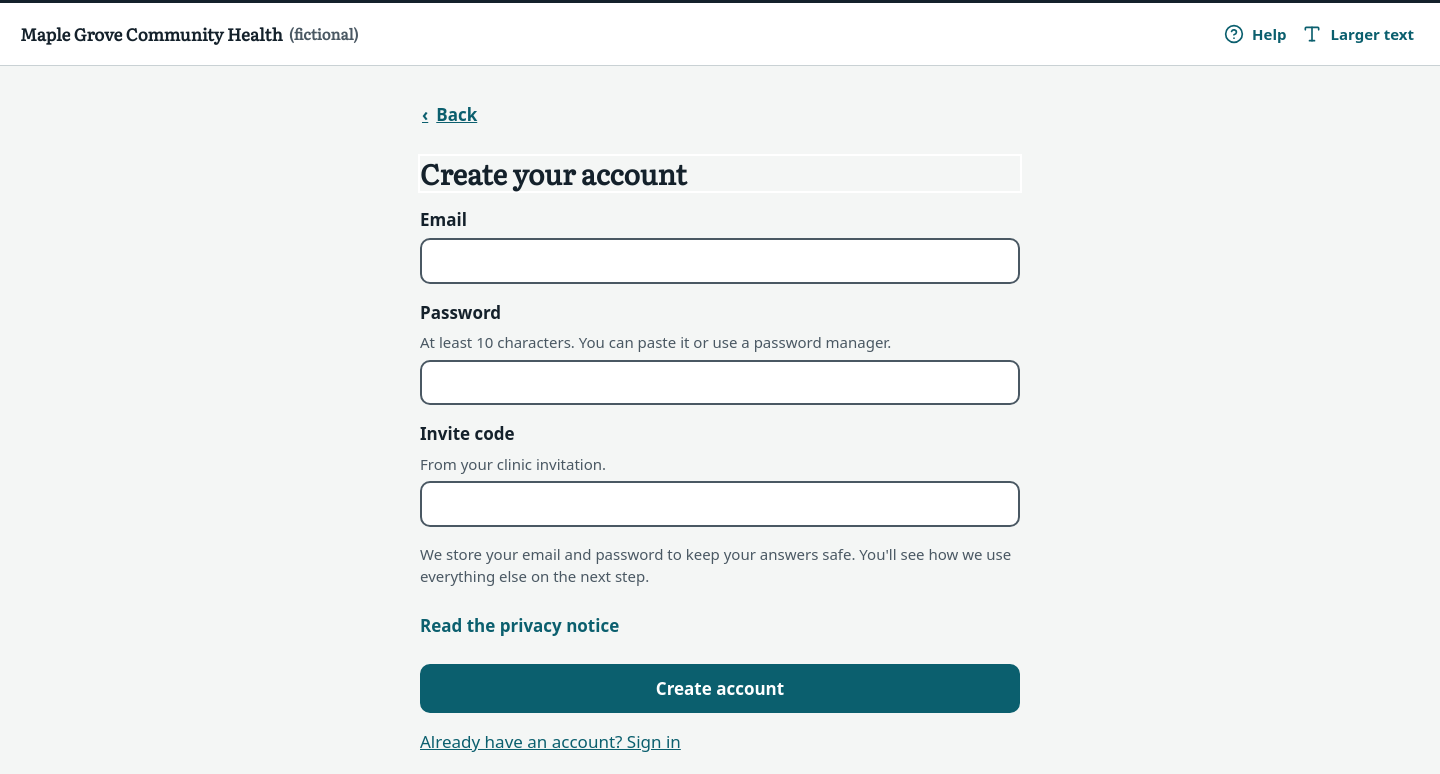
Test case: sign-up says what's stored before consent and links the notice
expect the text "We store your email and password" is shown: met, box [420, 544, 1011, 586]
Click the heading "Read the privacy notice" at coordinates (520, 625), box [420, 614, 619, 637]
(page scrolled)
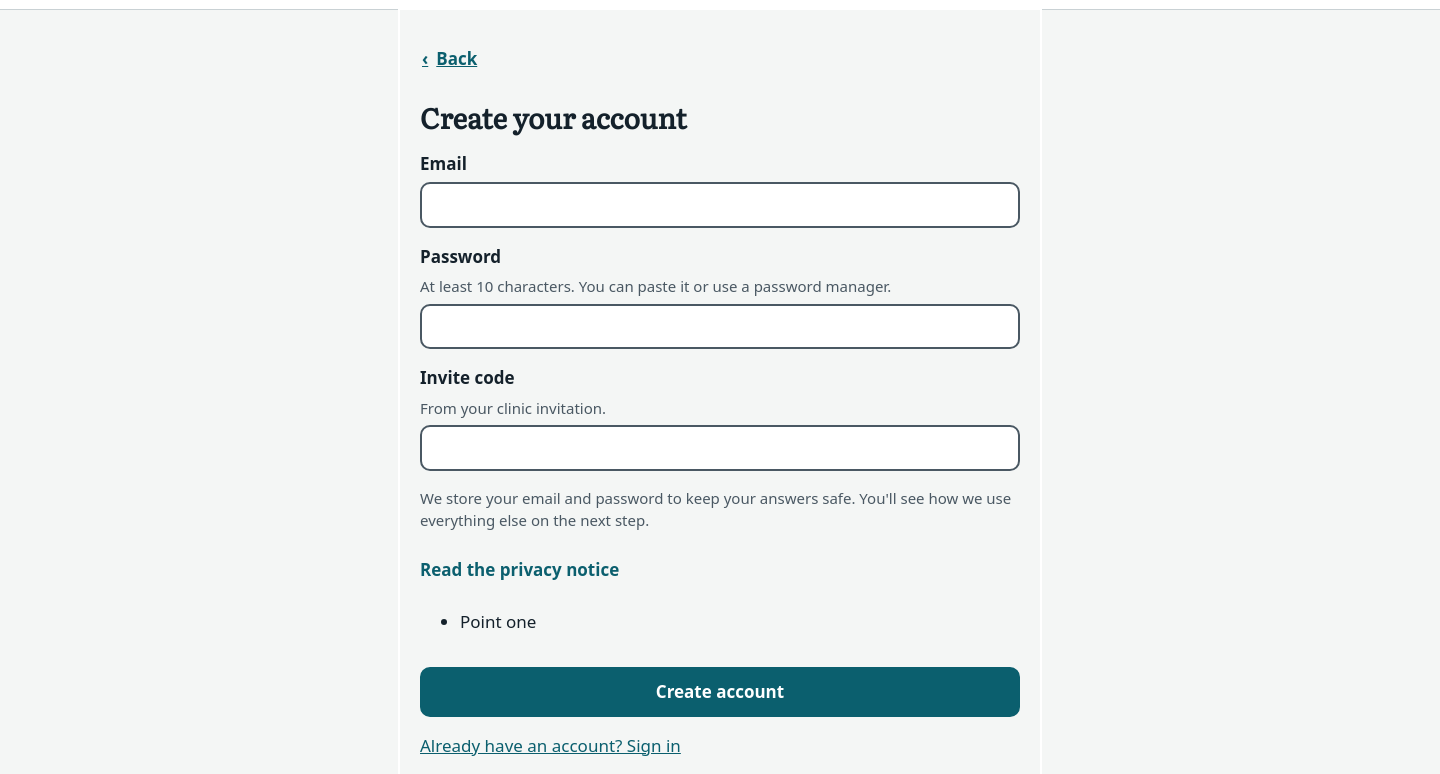
expect the list item "Point one" is shown: met, box [460, 610, 536, 632]
